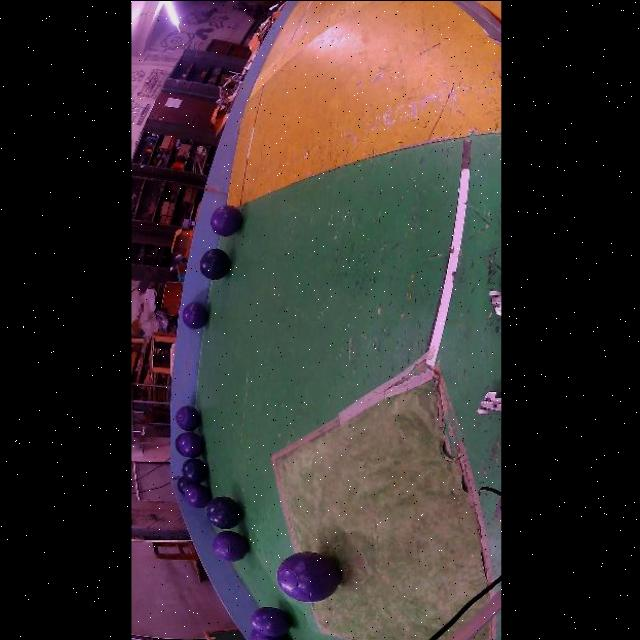B: (206, 496, 242, 528), (199, 248, 229, 279), (181, 457, 208, 483), (175, 475, 190, 495)
P: (276, 550, 340, 601), (250, 607, 291, 636), (211, 529, 247, 560), (210, 204, 241, 235), (182, 300, 208, 329), (184, 483, 210, 508), (177, 432, 204, 456), (175, 405, 200, 430), (250, 628, 287, 640)
